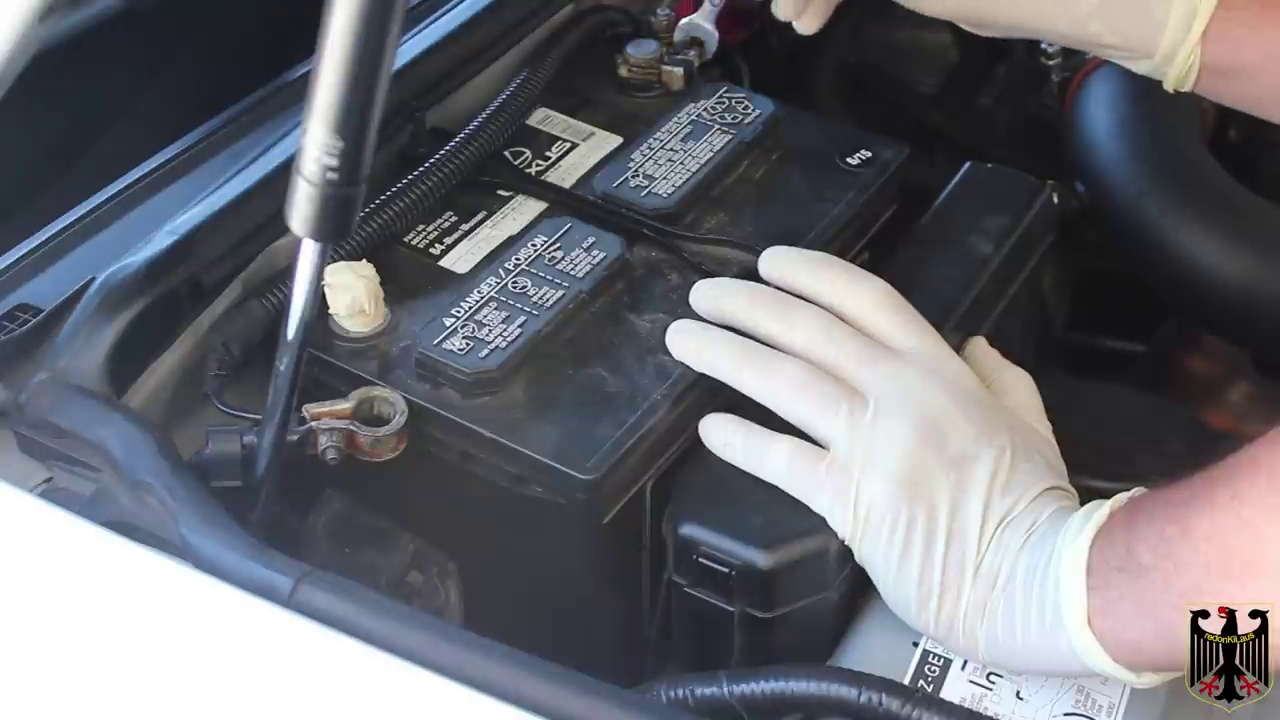battery: (279, 45, 914, 471)
